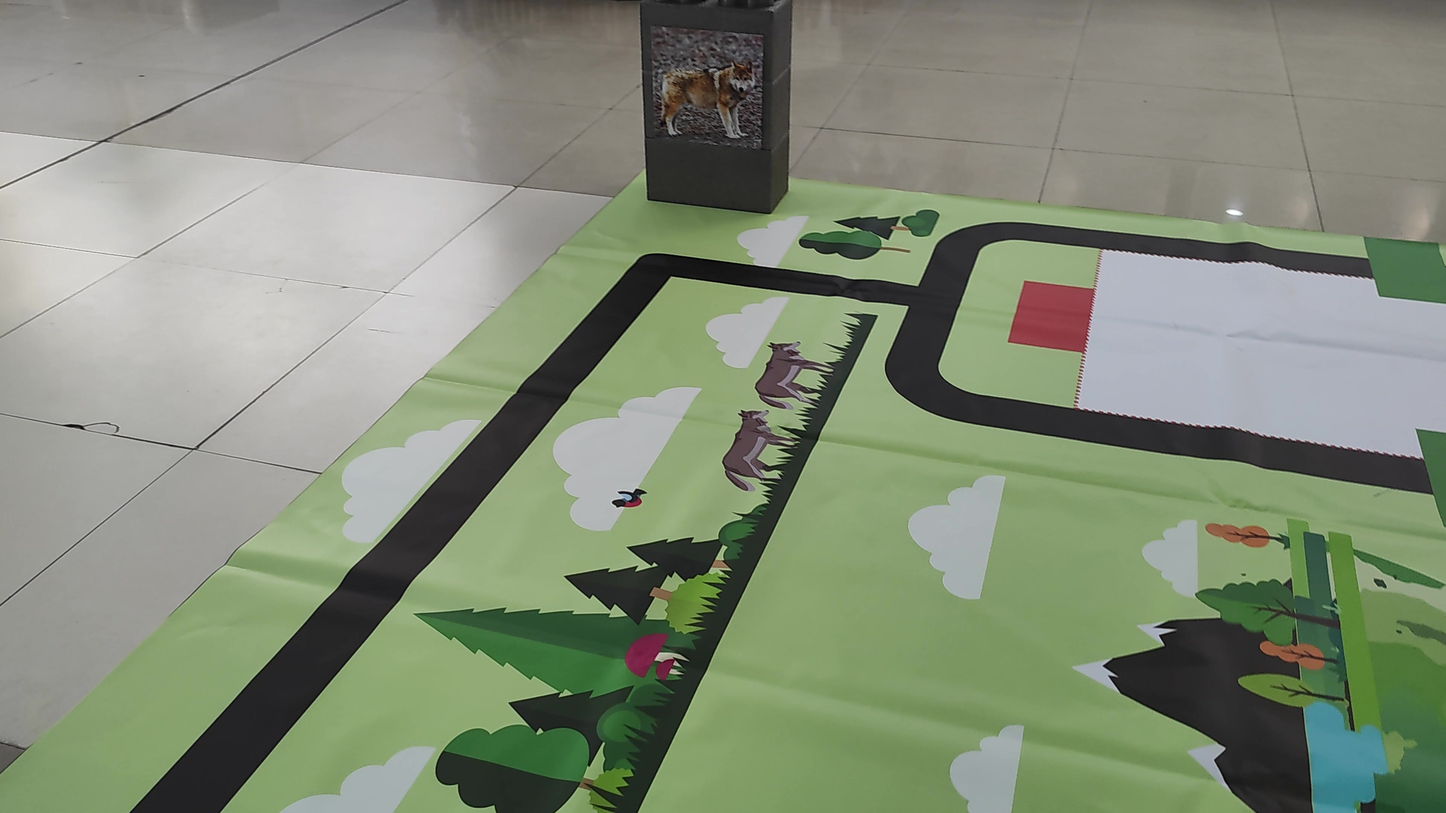wolf: (650, 34, 759, 145)
